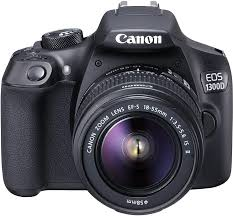camera: (2, 9, 229, 202)
